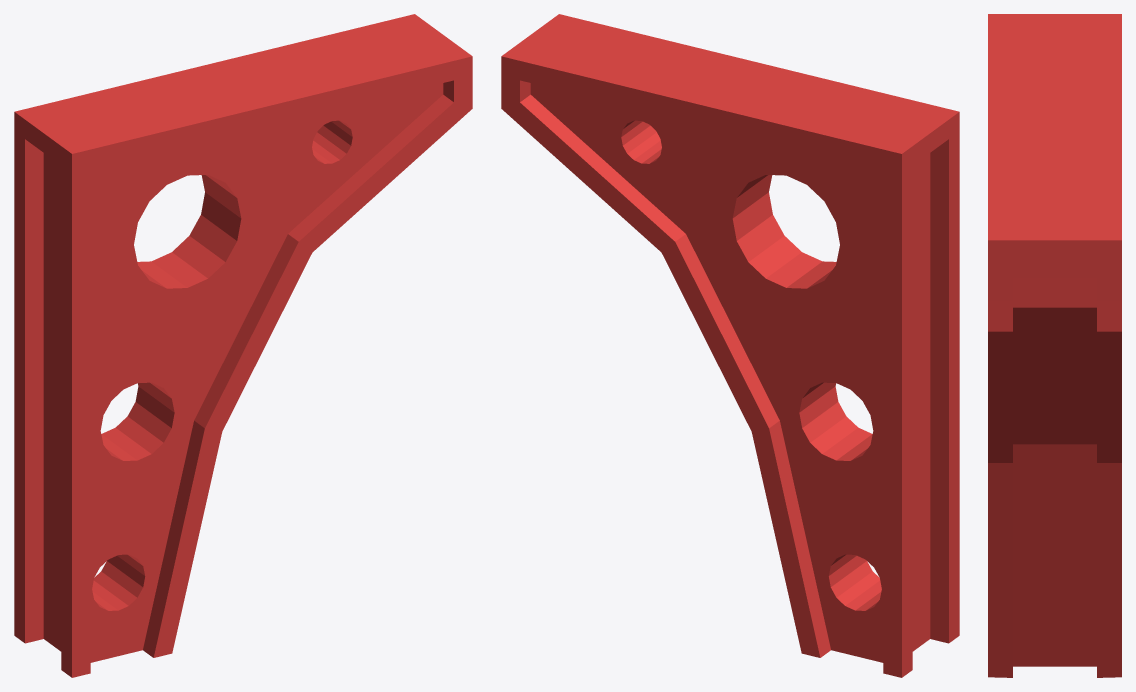
The model's file is supCurveTop.fbx.
3 views of the same model, side by side, from view 1: azimuth 30°, elevation 25°; view 2: azimuth 150°, elevation 25°; view 3: azimuth 270°, elevation 25° (orthographic). The views are drawn at different scales.
Parts seen in each view (by area): view 1: supCurveTop; view 2: supCurveTop; view 3: supCurveTop.
Boxes of the visible parts, bbox=[...] form: supCurveTop: bbox=[14, 14, 472, 677]; supCurveTop: bbox=[501, 14, 959, 677]; supCurveTop: bbox=[988, 14, 1121, 677].
Size of the model in its own units: 400 by 501 by 100.
